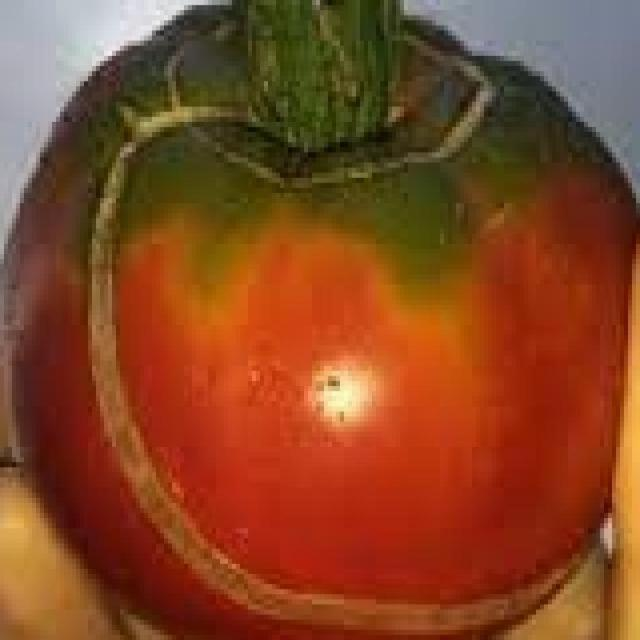Cracking Fruit: (221, 68, 354, 371)
